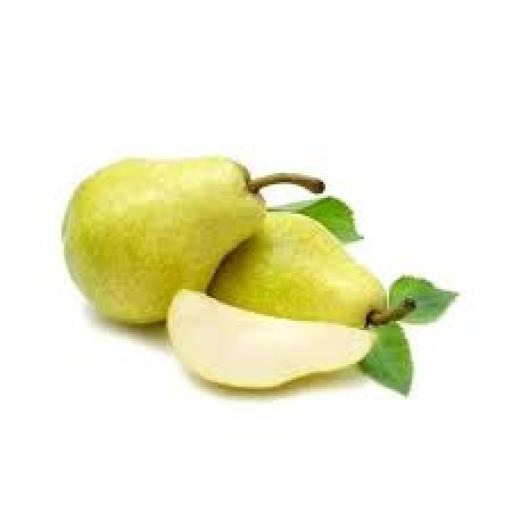Pear: (64, 158, 323, 323), (210, 212, 386, 327), (169, 292, 375, 389)
